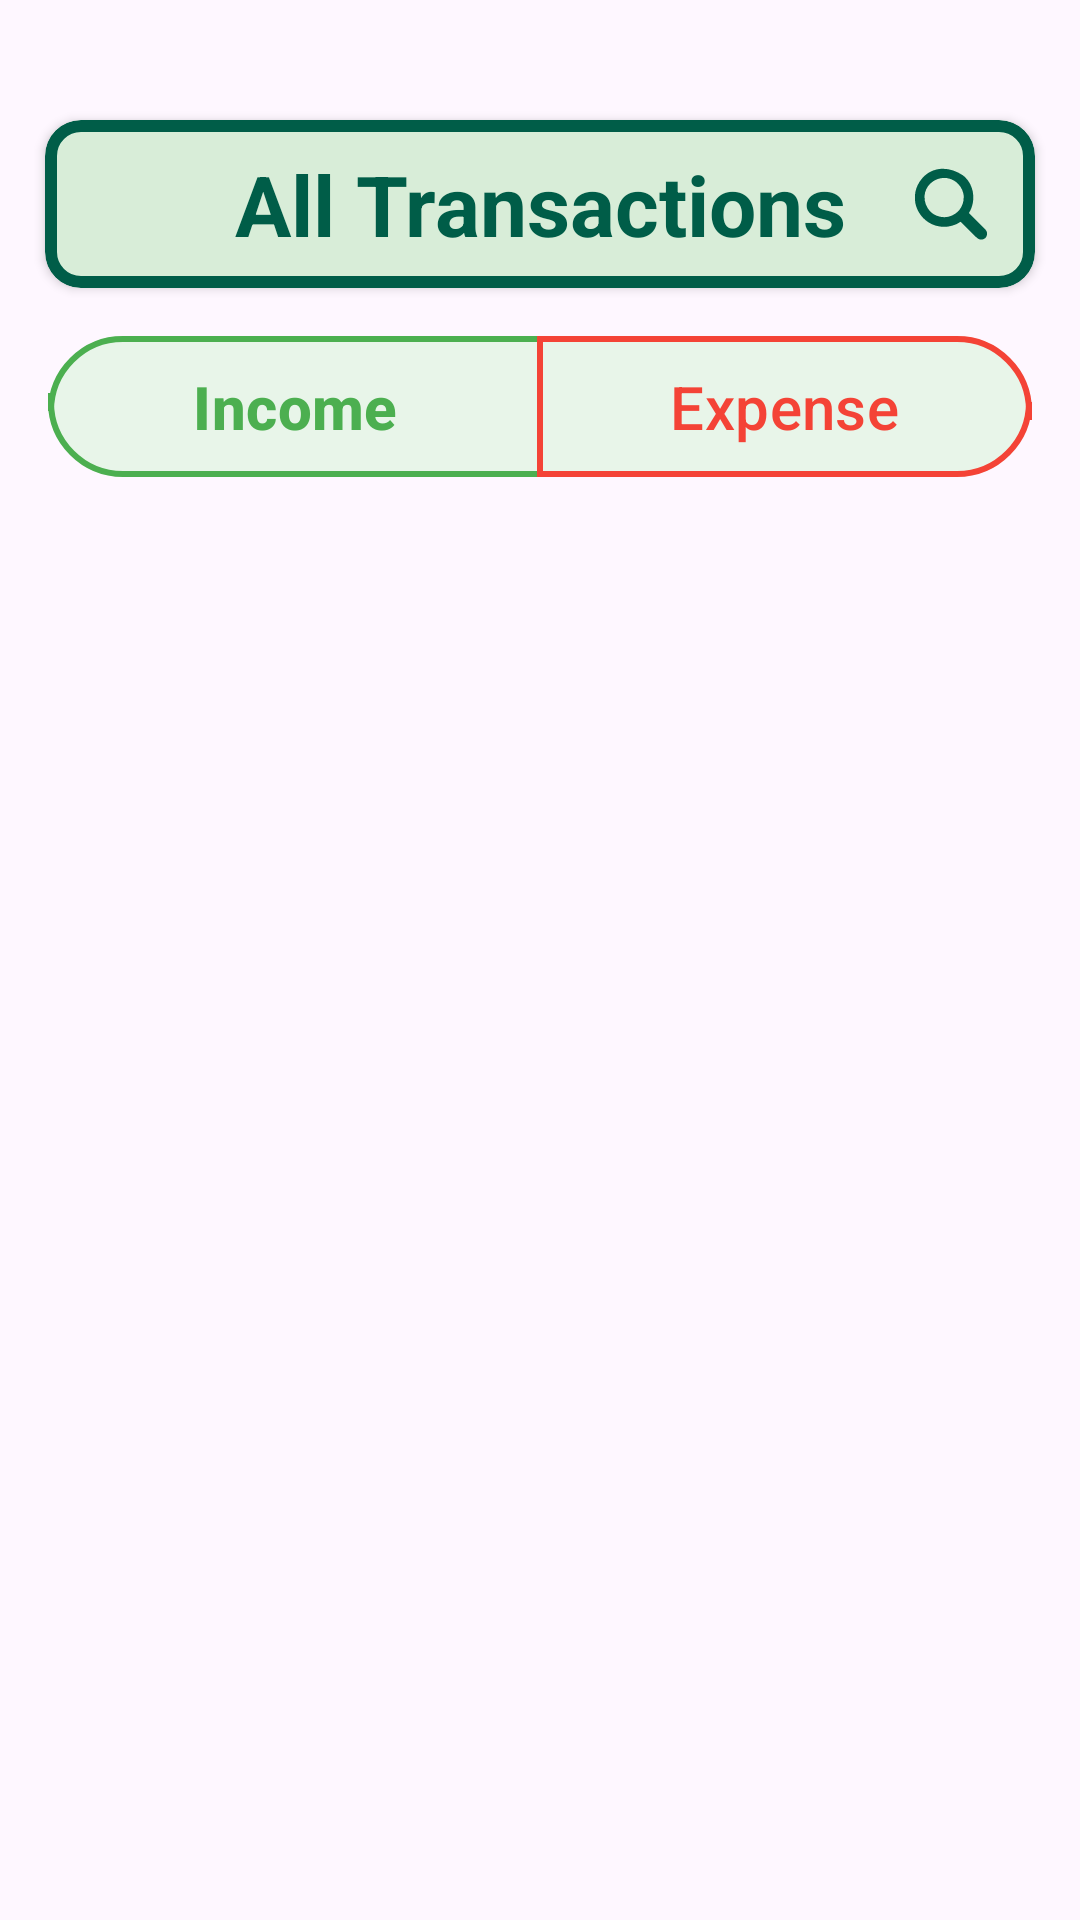

Where icons sit on this 1080x1920 app screen, as [left=x1, top=y1, right=x2, bottom=y2]:
Search: [left=915, top=168, right=987, bottom=240]
